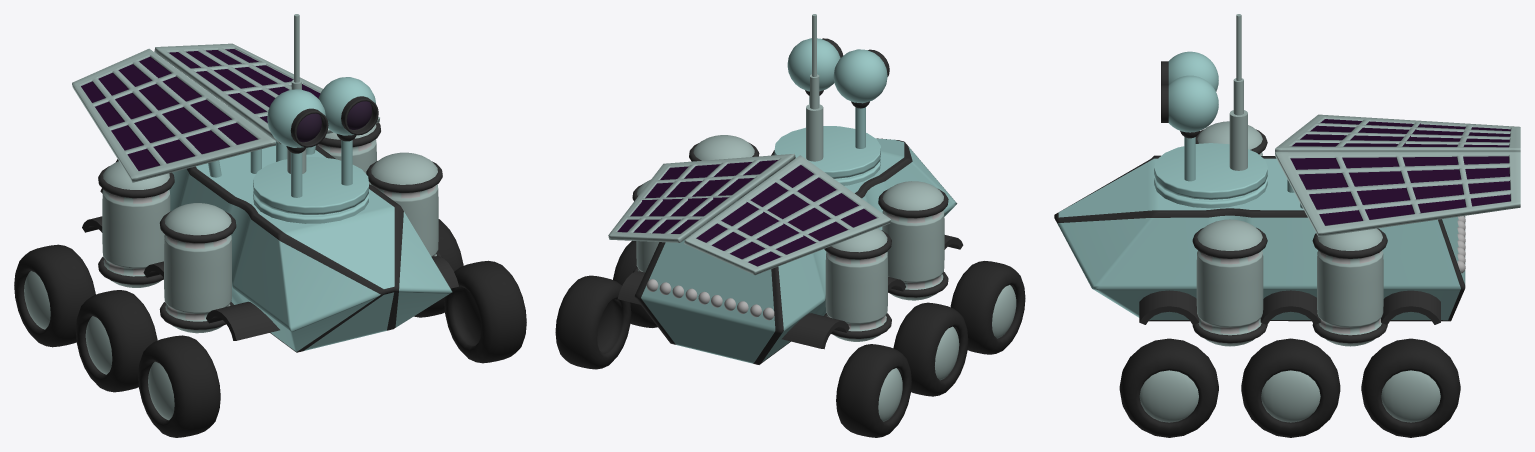
Rendered from Rover.fbx.
The picture shows the model from 3 angles, left to right: view 1: azimuth 30°, elevation 25°; view 2: azimuth 150°, elevation 25°; view 3: azimuth 270°, elevation 25°; orthographic projection. The views are drawn at different scales.
Parts seen in each view (by area): view 1: body, Battery_3, Battery_2, tire2, tire1, tire6, tire4, plate, Battery_4, eye2, eye1, Battery_1 (+2 smaller); view 2: body, Battery_3, Battery_2, tire4, tire3, tire2, tire6, plate, eye2, eye1, antenna, Battery_4 (+2 smaller); view 3: body, Battery_4, tire5, tire3, tire1, Battery_1, plate, eye1, antenna, eye2, Battery_3.
Boxes of the visible parts, x1,y1,x2,y2 form: body: (72,43,458,352); Battery_3: (159,203,236,333); Battery_2: (98,161,174,287); tire2: (138,335,220,437); tire1: (444,260,526,363); tire6: (75,290,157,392); tire4: (14,244,95,347); plate: (253,157,368,223); Battery_4: (366,152,442,257); eye2: (267,89,328,197); eye1: (318,77,378,185); Battery_1: (317,123,380,184); body: (608,138,963,364); Battery_3: (878,181,948,300); Battery_2: (824,228,891,341); tire4: (836,344,911,437); tire3: (555,275,631,369); tire2: (950,261,1025,354); tire6: (893,302,968,396); plate: (774,126,880,185); eye2: (833,49,889,148); eye1: (787,38,843,104); antenna: (806,14,823,161); Battery_4: (689,135,759,161); body: (1054,114,1520,324); Battery_4: (1192,219,1267,346); tire5: (1241,338,1340,437); tire3: (1361,338,1460,437); tire1: (1119,338,1218,437); Battery_1: (1312,228,1387,346); plate: (1154,143,1267,208); eye1: (1161,75,1218,181); antenna: (1229,14,1247,170); eye2: (1161,51,1218,91); Battery_3: (1195,121,1267,155).
Bounding box in the file's own units: 6.98 × 6.7 × 8.2.
